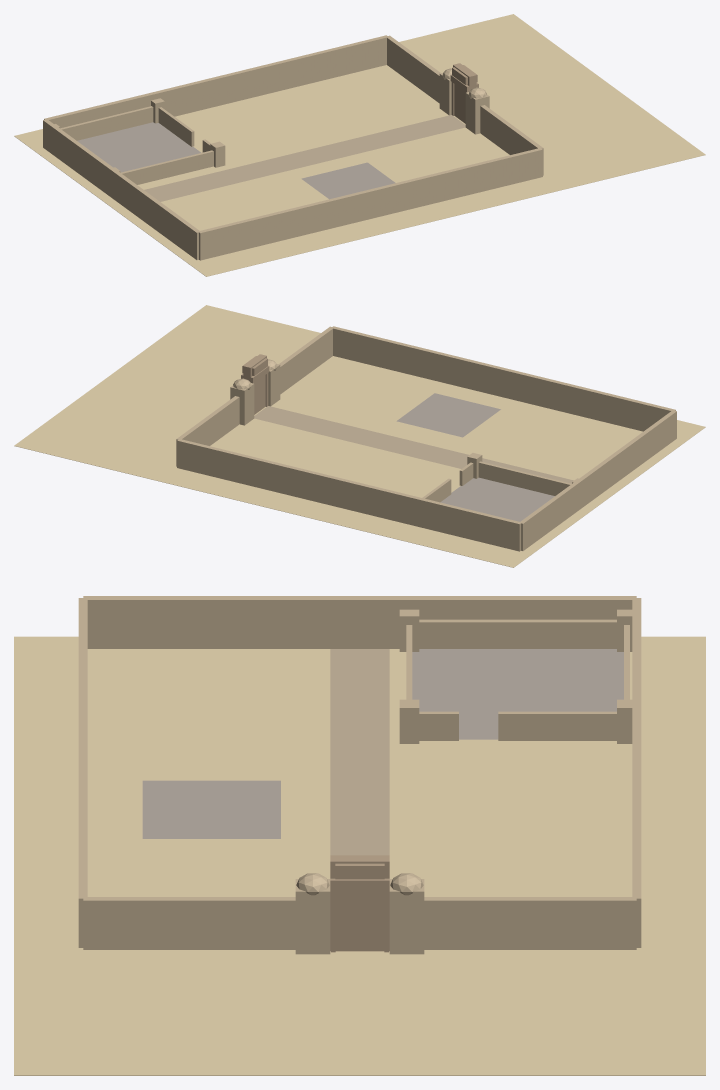
The model's file is Samarkand_Layout.fbx.
The picture shows the model from 3 angles, top to bottom: view 1: azimuth 30°, elevation 25°; view 2: azimuth 150°, elevation 25°; view 3: azimuth 270°, elevation 25°; orthographic projection. The views are drawn at different scales.
Parts seen in each view (by area): view 1: Ground, Wall_S, Wall_N, Road_Main, Wall_W, Citadel_Platform, Temple_Platform, Wall_E_N, Wall_E_S, Citadel_Wall_N, Citadel_Wall_S, GateTower_S (+3 smaller); view 2: Ground, Wall_N, Wall_S, Wall_W, Road_Main, Citadel_Platform, Temple_Platform, Wall_E_S, Wall_E_N, Citadel_Wall_S, GateTower_N, Gate_Wall (+1 smaller); view 3: Ground, Wall_W, Citadel_Platform, Road_Main, Wall_E_N, Wall_E_S, Temple_Platform, Citadel_Wall_W, Gate_Wall, Citadel_Wall_E_N, Wall_N, Wall_S (+7 smaller).
Part boxes in pixels (<box>): Ground: <box>14,14,705,276</box>; Wall_S: <box>198,148,542,260</box>; Wall_N: <box>44,35,387,128</box>; Road_Main: <box>144,115,465,201</box>; Wall_W: <box>43,120,200,259</box>; Citadel_Platform: <box>77,122,201,172</box>; Temple_Platform: <box>301,162,395,199</box>; Wall_E_N: <box>386,35,440,103</box>; Wall_E_S: <box>480,105,543,175</box>; Citadel_Wall_N: <box>60,106,153,140</box>; Citadel_Wall_S: <box>121,150,213,184</box>; GateTower_S: <box>465,92,489,134</box>; Ground: <box>14,305,705,567</box>; Wall_N: <box>177,439,521,551</box>; Wall_S: <box>332,326,675,431</box>; Wall_W: <box>520,411,676,550</box>; Road_Main: <box>254,406,573,483</box>; Citadel_Platform: <box>440,477,554,521</box>; Temple_Platform: <box>396,393,500,437</box>; Wall_E_S: <box>279,326,333,394</box>; Wall_E_N: <box>176,396,239,466</box>; Citadel_Wall_S: <box>478,461,571,495</box>; GateTower_N: <box>230,383,254,425</box>; Gate_Wall: <box>243,354,266,414</box>; Ground: <box>14,636,705,1075</box>; Wall_W: <box>83,596,636,648</box>; Citadel_Platform: <box>412,649,623,739</box>; Road_Main: <box>330,649,389,855</box>; Wall_E_N: <box>424,897,636,949</box>; Wall_E_S: <box>83,897,295,949</box>; Temple_Platform: <box>142,780,280,838</box>; Citadel_Wall_W: <box>419,619,616,648</box>; Gate_Wall: <box>330,855,389,951</box>; Citadel_Wall_E_N: <box>498,711,616,740</box>; Wall_N: <box>632,598,641,947</box>; Wall_S: <box>78,598,87,947</box>.
Size of the model in its own units: 10500 by 1005 by 7000.
